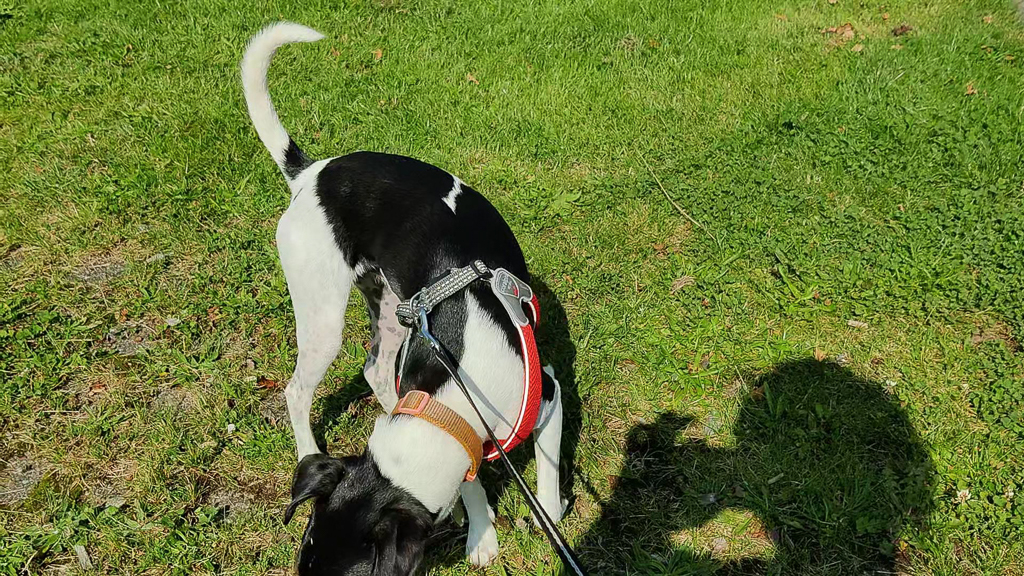Dog: (215, 11, 603, 576)
